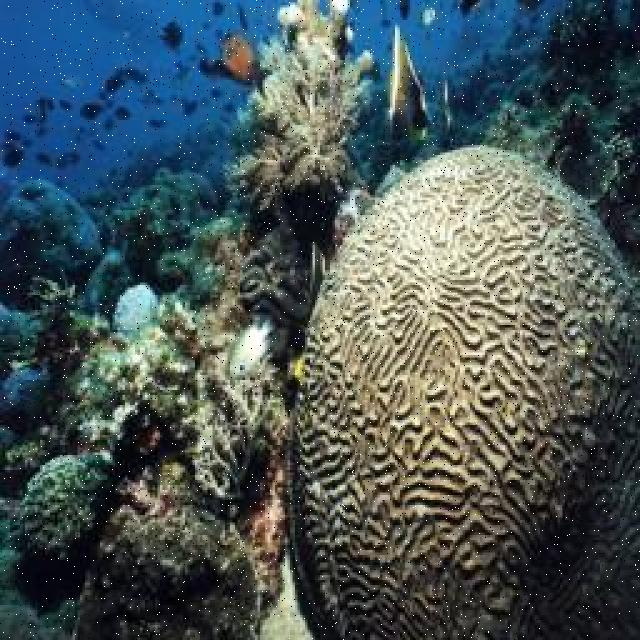fish: (377, 23, 433, 143), (228, 318, 276, 379), (221, 34, 267, 79), (288, 356, 306, 380)
reefs: (288, 145, 638, 638), (237, 226, 325, 366), (6, 454, 116, 557), (112, 284, 159, 330)
